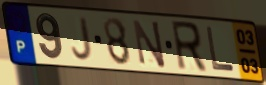8: (102, 16, 132, 67)
9: (34, 11, 65, 62)
J: (70, 15, 93, 62)
L: (204, 25, 237, 73)
N: (131, 19, 168, 71)
R: (169, 19, 209, 75)
